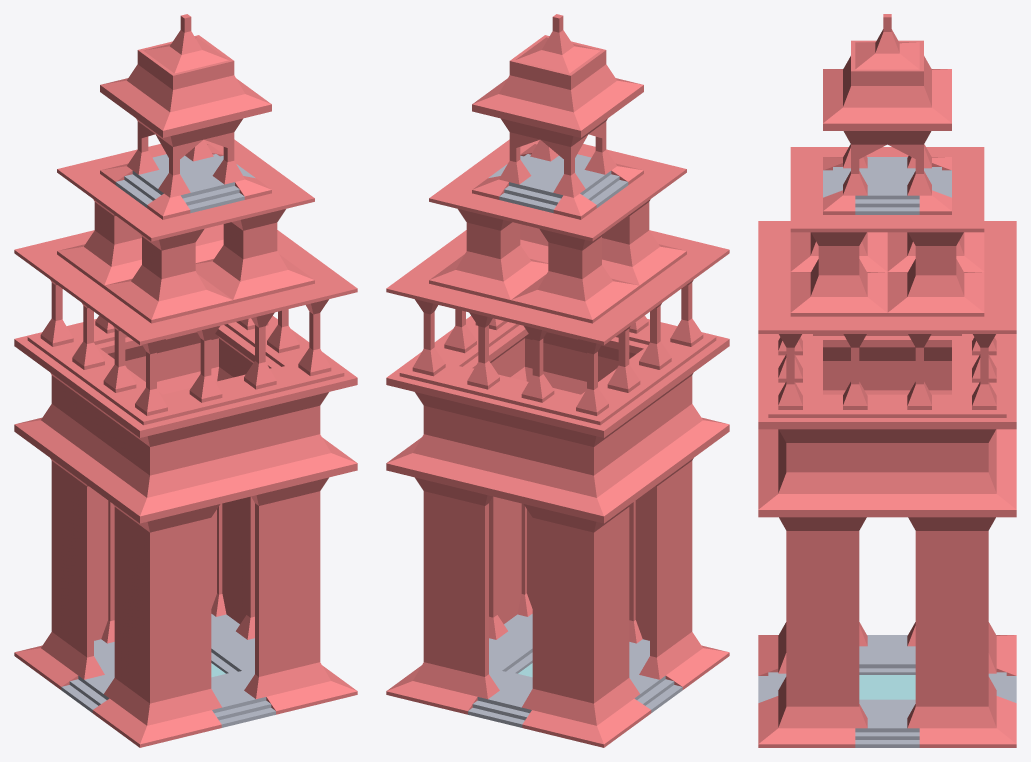
File: red_1x1_pool.glb
3 views of the same model, side by side, from view 1: azimuth 30°, elevation 25°; view 2: azimuth 150°, elevation 25°; view 3: azimuth 270°, elevation 25° (orthographic). The views are drawn at different scales.
Parts seen in each view (by area): view 1: mass; view 2: mass; view 3: mass, group_0.
Boxes of the visible parts, x1=… form: mass: x1=14, y1=14, x2=357, y2=747; mass: x1=386, y1=14, x2=729, y2=747; mass: x1=758, y1=14, x2=1016, y2=747; group_0: x1=859, y1=675, x2=915, y2=699.
Size of what is drawn, in the model's own units: 16 by 46.26 by 16.
